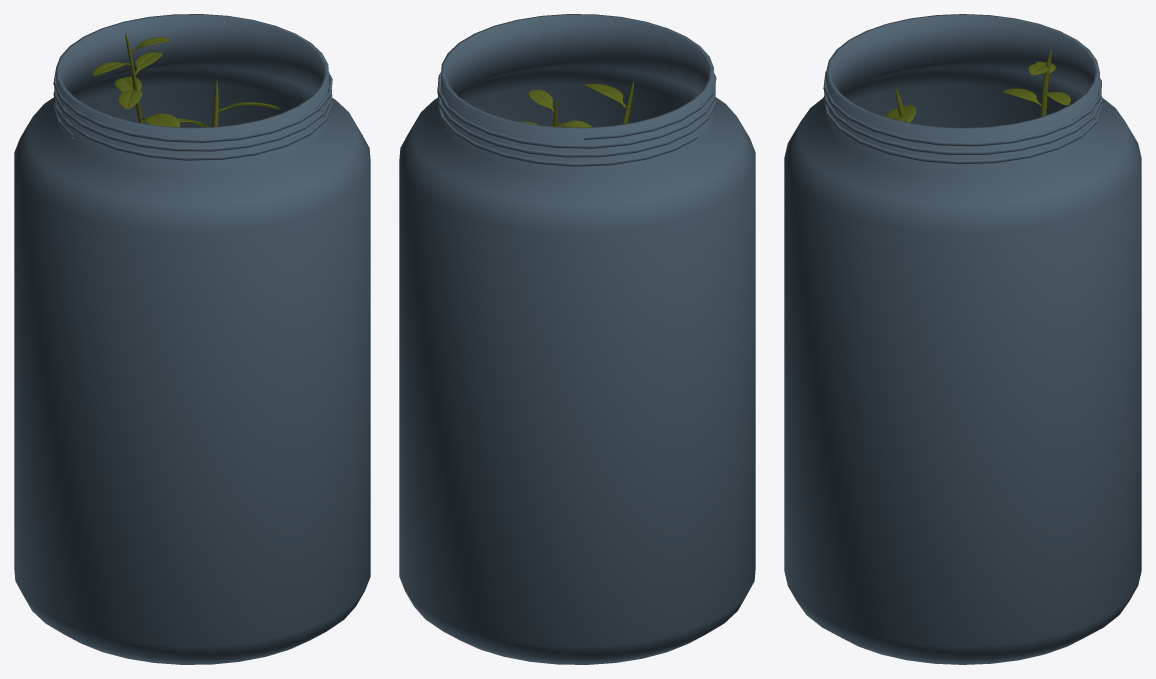
Rendered from Jar_GreenHerbs.fbx.
3 views of the same model, side by side, from view 1: azimuth 30°, elevation 25°; view 2: azimuth 150°, elevation 25°; view 3: azimuth 270°, elevation 25° (orthographic).
Visible parts, largest first — view 1: jar_with_herbsGreen; view 2: jar_with_herbsGreen; view 3: jar_with_herbsGreen.
Part boxes in pixels (box(x1,y1,x2,y2)): jar_with_herbsGreen: box(14, 14, 370, 664); jar_with_herbsGreen: box(399, 14, 755, 664); jar_with_herbsGreen: box(784, 14, 1141, 664).
Size of the model in its own units: 37.64 by 63.15 by 37.64.
